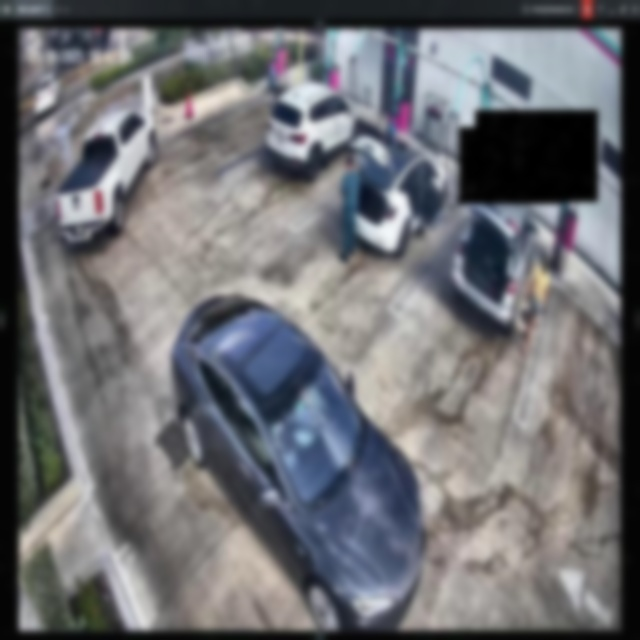Car: (164, 283, 426, 629), (344, 127, 450, 255), (454, 181, 535, 342), (59, 114, 155, 234), (271, 78, 362, 187)
